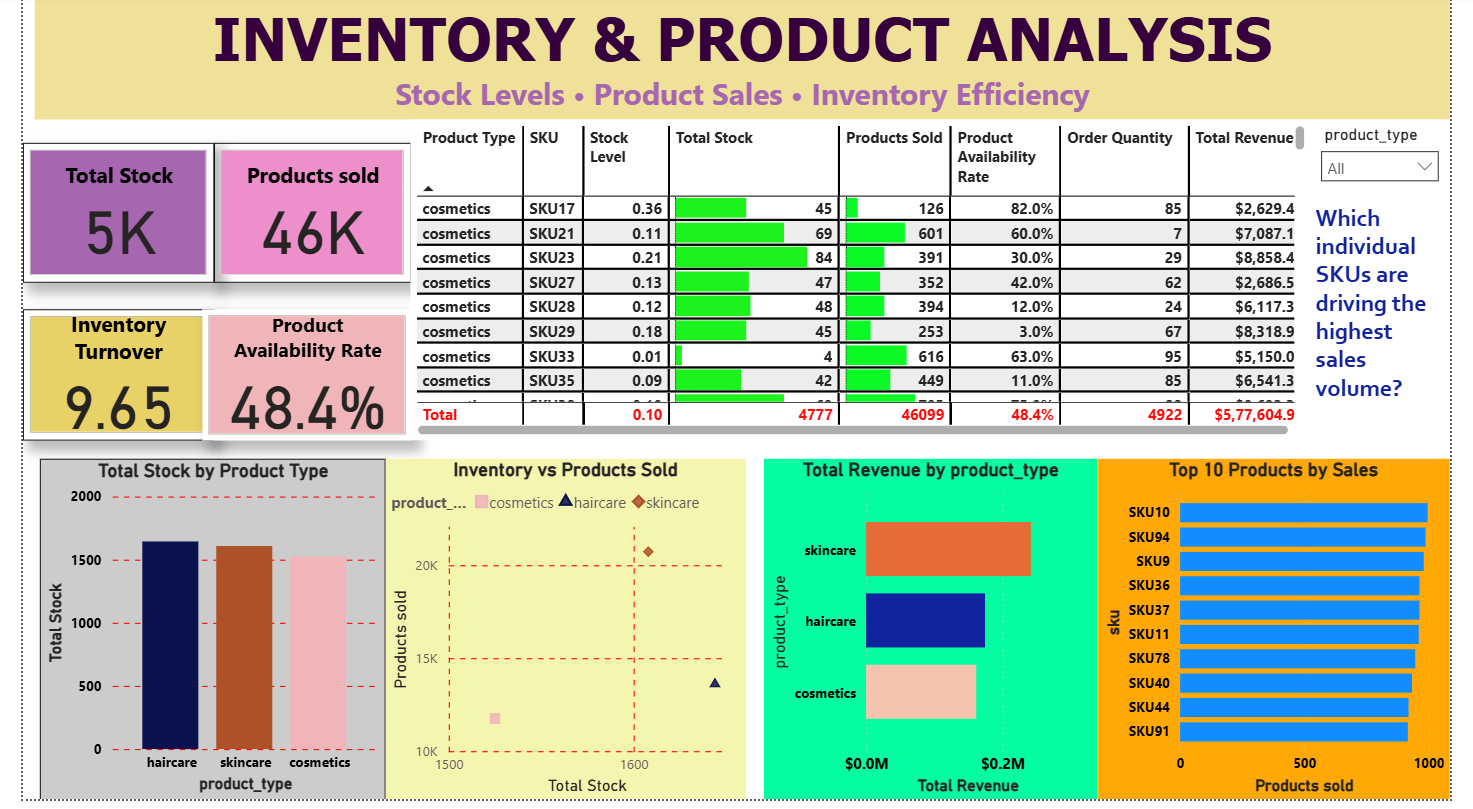

Layout of this report page (visuals, bound fields, positions):
{"tool":"powerbi","page":{"name":"Inventory & Product Analysis","canvas":[1280,720],"ordinal":1},"visuals":[{"type":"textbox","box":[10.3,0,1269.4,111.1],"z":0},{"type":"cardVisual","fields":{"Data":["public inventory.Total Stock"]},"box":[0,131.7,171.7,125.3],"z":1000},{"type":"cardVisual","fields":{"Data":["public inventory.Products sold"]},"box":[171.7,131.7,176.9,125.3],"z":2000},{"type":"cardVisual","fields":{"Data":["public inventory.Inventory Turnover"]},"box":[0,281.5,170.5,117.5],"z":3000},{"type":"cardVisual","fields":{"Data":["public inventory.Product Availability Rate"]},"box":[161.4,281.5,187.2,117.5],"z":4000},{"type":"clusteredColumnChart","title":"Total Stock by Product Type","fields":{"Category":["public products.product_type"],"Y":["public inventory.Total Stock"]},"box":[15.5,414.5,309.9,306],"z":5000},{"type":"scatterChart","title":"Inventory vs Products Sold","fields":{"X":["public inventory.Total Stock"],"Y":["public inventory.Products sold"],"Category":["public products.product_type"],"Series":["public products.product_type"]},"box":[325.4,414.5,322.8,306],"z":6000},{"type":"tableEx","fields":{"Values":["public products.product_type","public products.sku","Lead Time Stages.Stock-to-Sales Ratio","public inventory.Total Stock","public inventory.Products sold","public inventory.Product Availability Rate","Sum(public inventory.order_quantities)","public inventory.Total Revenue"]},"box":[347.4,111.1,807.1,288],"z":7000},{"type":"clusteredBarChart","fields":{"Category":["public products.product_type"],"Y":["public inventory.Total Revenue"]},"box":[665,414.5,299.6,306],"z":8000},{"type":"clusteredBarChart","title":"Top 10 Products by Sales","fields":{"Category":["public inventory.sku"],"Y":["public inventory.Products sold"]},"box":[964.6,414.5,315.1,306],"z":9000},{"type":"slicer","fields":{"Values":["public products.product_type"]},"box":[1154.5,111.1,125.3,69.7],"z":10000},{"type":"textbox","box":[1154.5,180.8,125.3,218.2],"z":11000}]}

Visuals, with their boxes in screenshot pixels (x1, y1, x2, y2), scaled from the page's 1280x720 canvas onto the 1473x809 screenshot:
textbox: x1=12 y1=0 x2=1472 y2=125
cardVisual - public inventory.Total Stock: x1=0 y1=148 x2=198 y2=289
cardVisual - public inventory.Products sold: x1=198 y1=148 x2=401 y2=289
cardVisual - public inventory.Inventory Turnover: x1=0 y1=316 x2=196 y2=448
cardVisual - public inventory.Product Availability Rate: x1=186 y1=316 x2=401 y2=448
"Total Stock by Product Type" clusteredColumnChart: x1=18 y1=466 x2=374 y2=808
"Inventory vs Products Sold" scatterChart: x1=374 y1=466 x2=746 y2=808
tableEx - public products.product_type x public products.sku: x1=400 y1=125 x2=1329 y2=448
clusteredBarChart - public products.product_type x public inventory.Total Revenue: x1=765 y1=466 x2=1110 y2=808
"Top 10 Products by Sales" clusteredBarChart: x1=1110 y1=466 x2=1472 y2=808
slicer - public products.product_type: x1=1329 y1=125 x2=1472 y2=203
textbox: x1=1329 y1=203 x2=1472 y2=448
